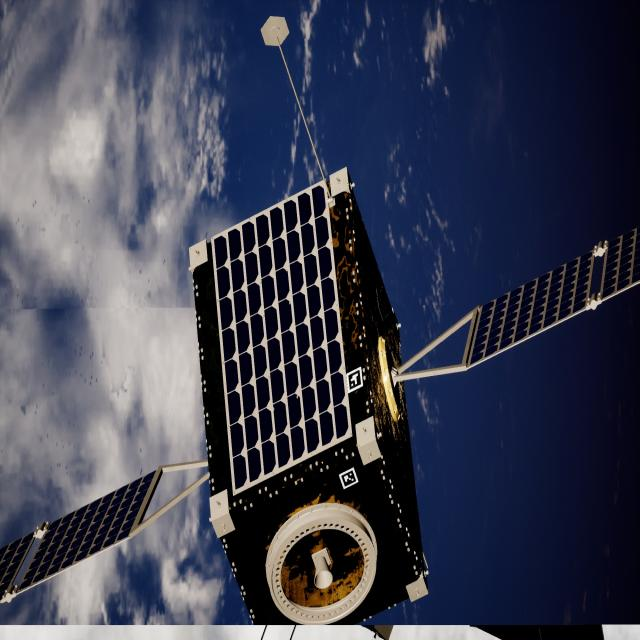satellite: (0, 170, 640, 627)
